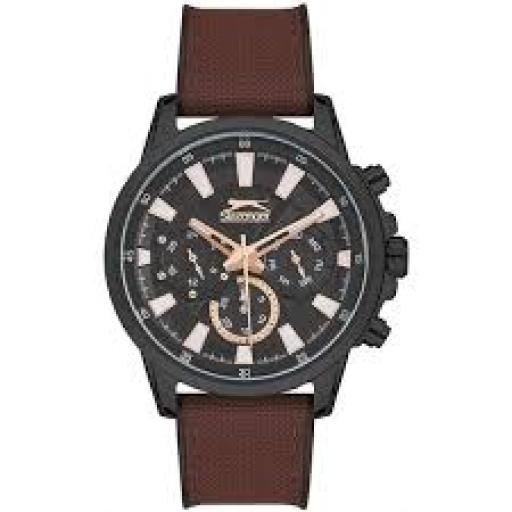KolSaati: (95, 0, 422, 512)
